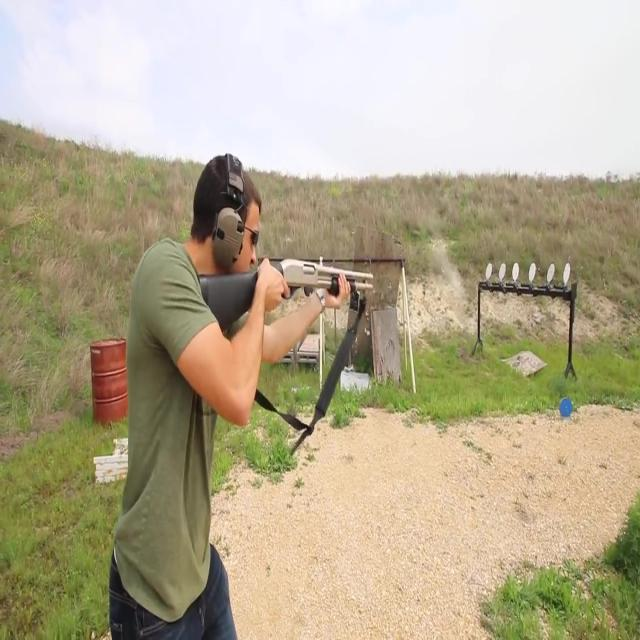Weapon: (184, 244, 429, 395)
